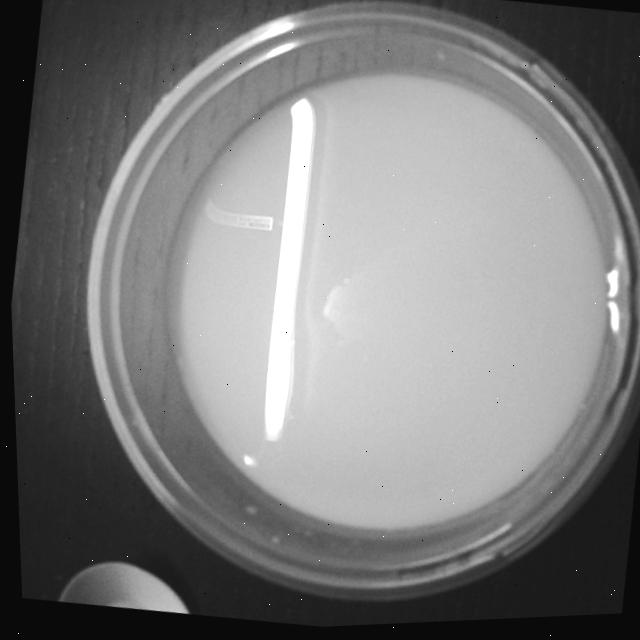蛋糕甜品: (9, 0, 640, 640)
